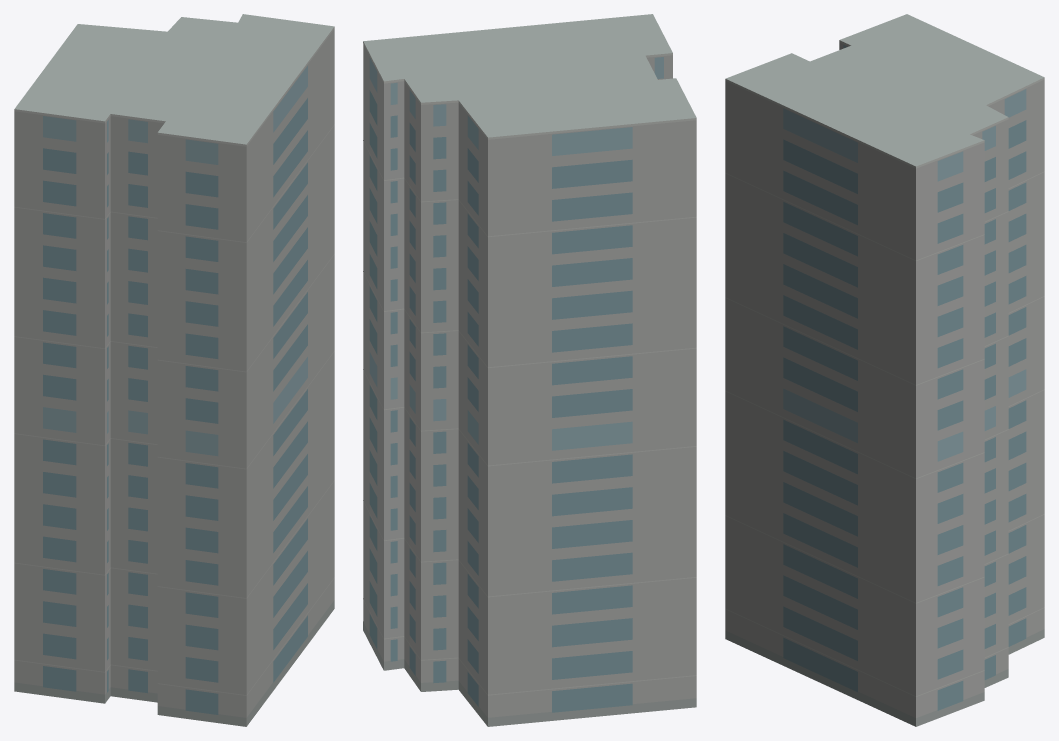
The model's file is residential-ffa9d375-5303-40eb-b121-0bd5d7b0a18b.glb.
The picture shows the model from 3 angles, left to right: view 1: azimuth 30°, elevation 25°; view 2: azimuth 150°, elevation 25°; view 3: azimuth 270°, elevation 25°; orthographic projection. The views are drawn at different scales.
Parts seen in each view (by area): view 1: residential-ffa9d375-5303-40eb-b121-0bd5d7b0a18b.tmp; view 2: residential-ffa9d375-5303-40eb-b121-0bd5d7b0a18b.tmp; view 3: residential-ffa9d375-5303-40eb-b121-0bd5d7b0a18b.tmp.
Boxes of the visible parts, bbox=[...] form: residential-ffa9d375-5303-40eb-b121-0bd5d7b0a18b.tmp: bbox=[14, 14, 334, 726]; residential-ffa9d375-5303-40eb-b121-0bd5d7b0a18b.tmp: bbox=[363, 14, 696, 726]; residential-ffa9d375-5303-40eb-b121-0bd5d7b0a18b.tmp: bbox=[725, 14, 1044, 726].
Size of the model in its own units: 37.98 by 65 by 33.58.
